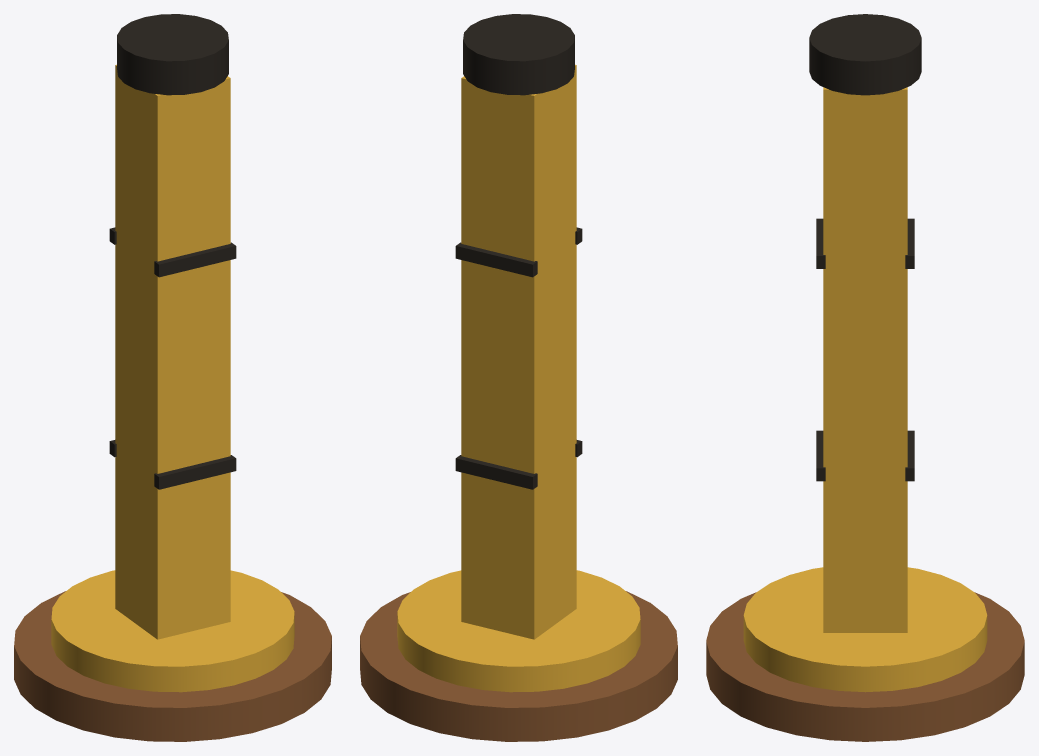
File: crane.glb
3 views of the same model, side by side, from view 1: azimuth 30°, elevation 25°; view 2: azimuth 150°, elevation 25°; view 3: azimuth 270°, elevation 25° (orthographic).
Parts seen in each view (by area): view 1: yellow, darkWood, black; view 2: yellow, darkWood, black; view 3: yellow, darkWood, black.
Boxes of the visible parts, x1,y1,x2,y2 form: yellow: (51,64,294,692); darkWood: (14,591,331,741); black: (109,14,236,489); yellow: (397,64,640,692); darkWood: (360,591,677,741); black: (455,14,582,489); yellow: (743,87,987,692); darkWood: (706,592,1024,741); black: (809,14,921,481).
Bounding box in the file's own units: 68 × 150 × 68.
